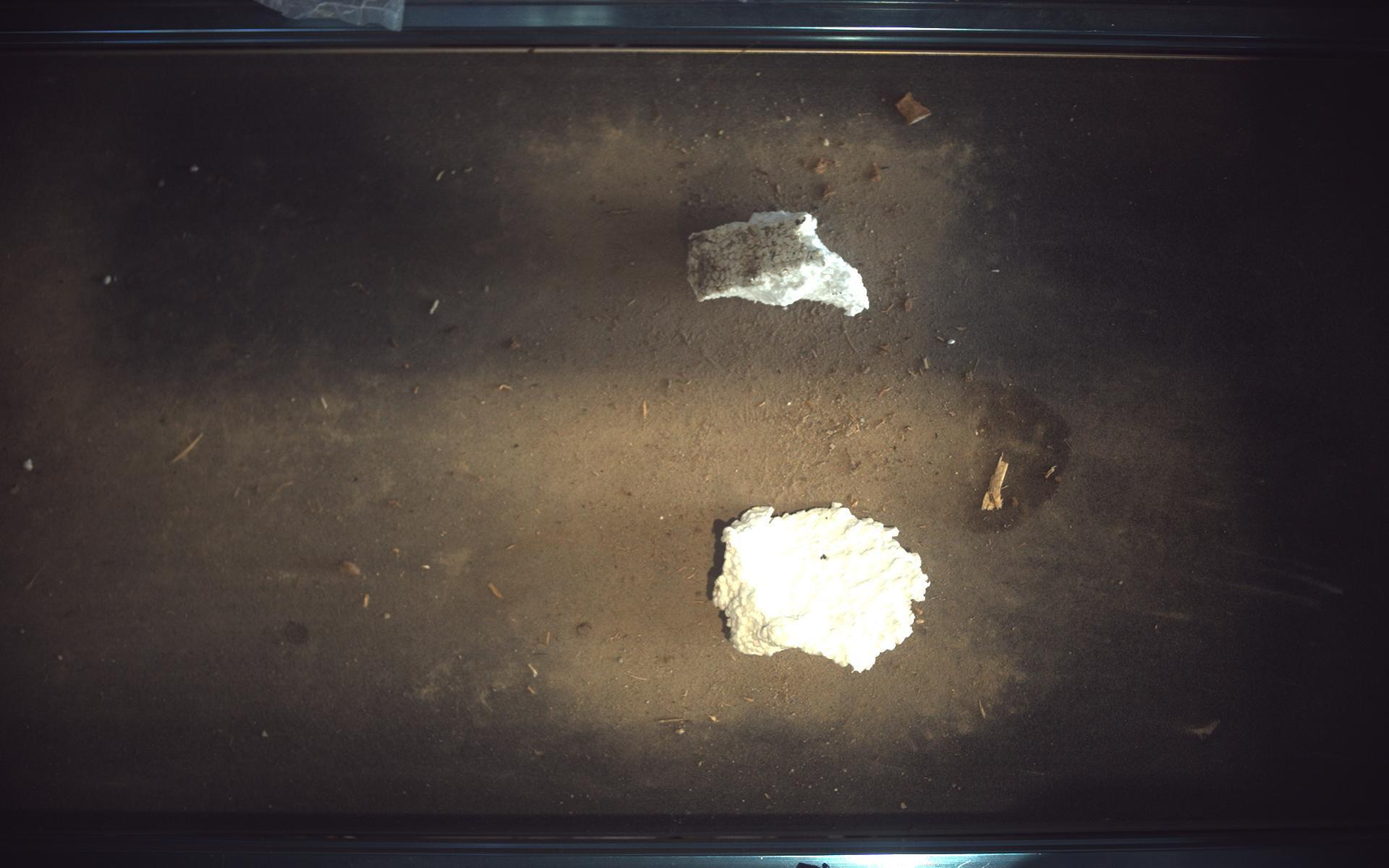foam: (713, 503, 931, 673), (689, 212, 871, 315)
